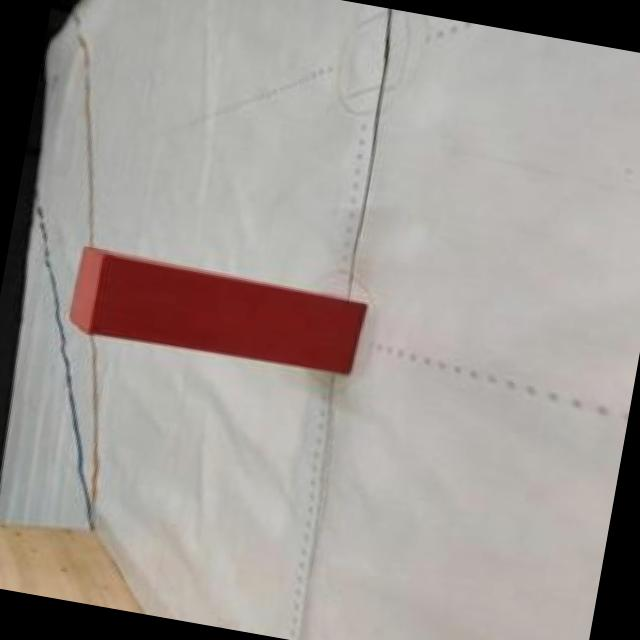redbox: (63, 242, 370, 383)
